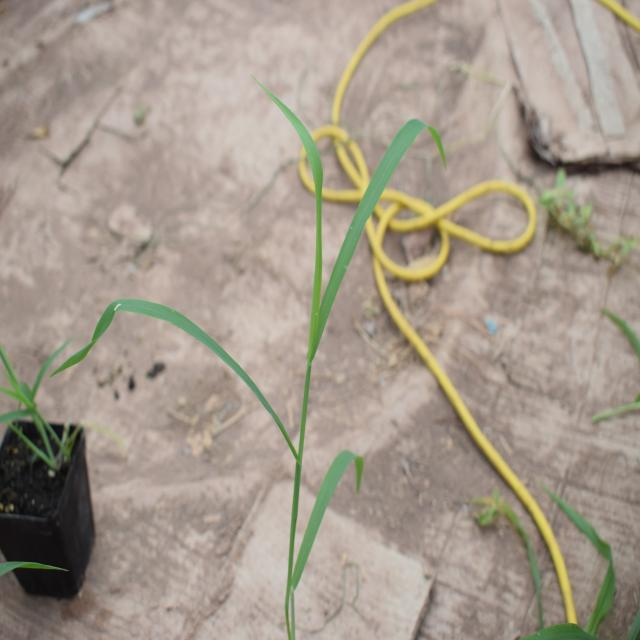crabgrass: (92, 82, 412, 534)
